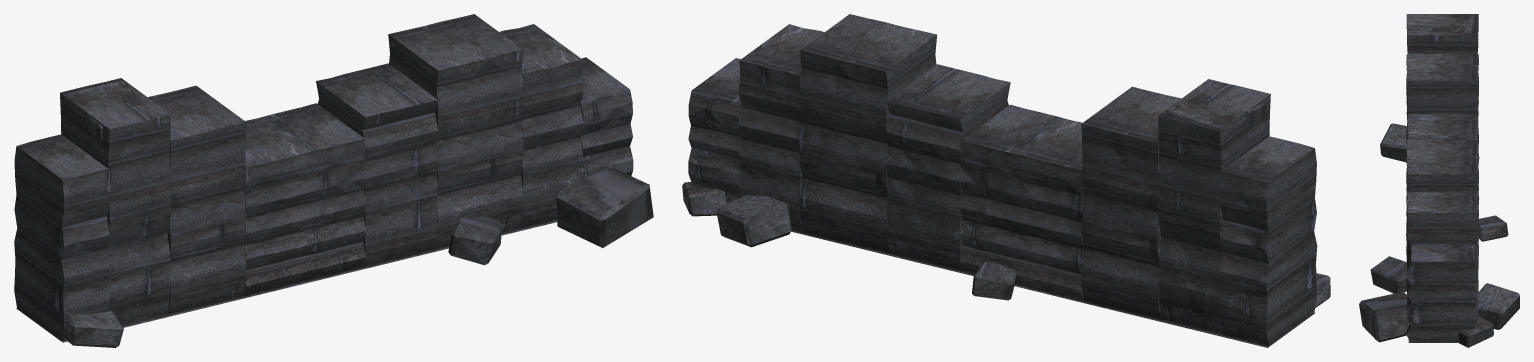
The model's file is ruin_wall_low_b_scan_v2_straight.glb.
3 views of the same model, side by side, from view 1: azimuth 30°, elevation 25°; view 2: azimuth 150°, elevation 25°; view 3: azimuth 270°, elevation 25° (orthographic). The views are drawn at different scales.
Parts seen in each view (by area): view 1: ruin_wall_low_b; view 2: ruin_wall_low_b; view 3: ruin_wall_low_b.
Boxes of the visible parts, <box> form: ruin_wall_low_b: <box>14,14,653,347</box>; ruin_wall_low_b: <box>682,14,1330,347</box>; ruin_wall_low_b: <box>1359,14,1519,347</box>.
Bounding box in the file's own units: 4 × 1.4 × 1.33.
1 material, 1 textured.
